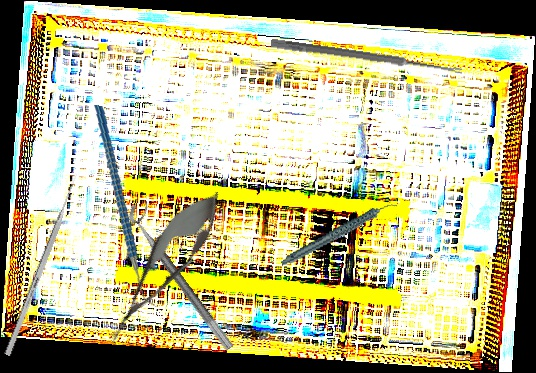Chopper: (74, 105, 180, 307)
Fixation Ring: (123, 197, 246, 352)
Handpiece: (273, 201, 405, 267)
Micro Scissor: (93, 178, 235, 354)
Pusher: (3, 172, 81, 357)
Surgical Spoon: (270, 38, 463, 76)
